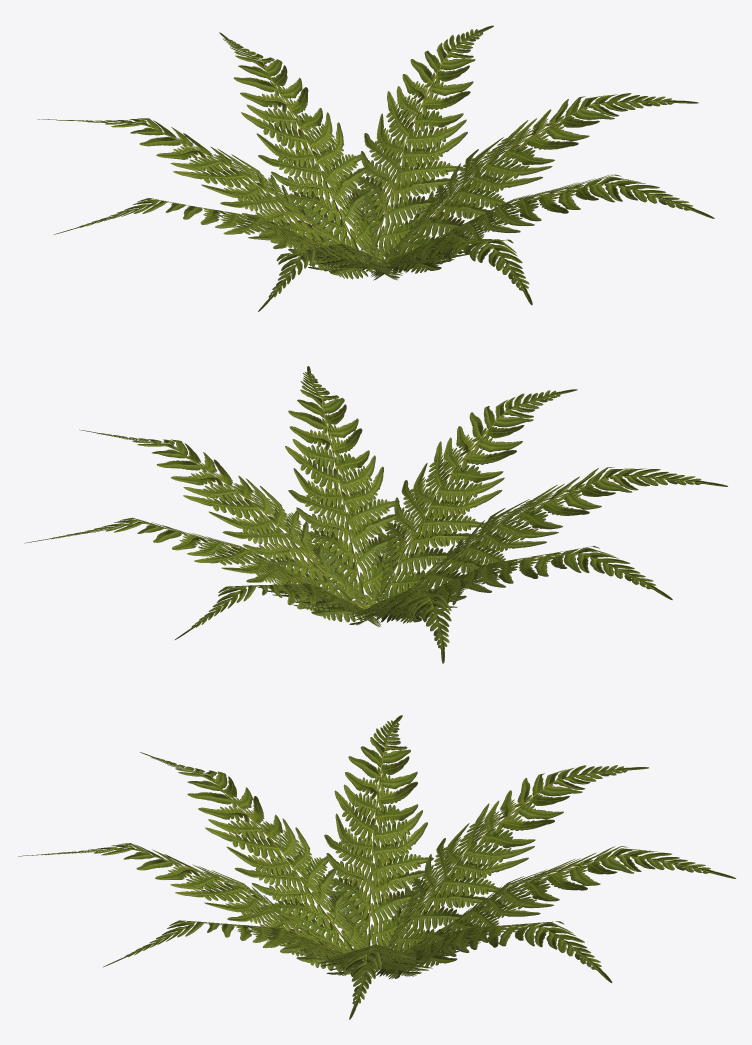
File: Fern.FBX
3 renders of one model, top to bottom at view 1: azimuth 30°, elevation 25°; view 2: azimuth 150°, elevation 25°; view 3: azimuth 270°, elevation 25°, orthographic.
Parts seen in each view (by area): view 1: Plane001; view 2: Plane001; view 3: Plane001.
Boxes of the visible parts, x1=… form: Plane001: x1=37, y1=25, x2=714, y2=311; Plane001: x1=24, y1=366, x2=727, y2=663; Plane001: x1=18, y1=715, x2=736, y2=1019.
Bounding box in the file's own units: 100 × 21 × 100.
1 material, 1 textured.
